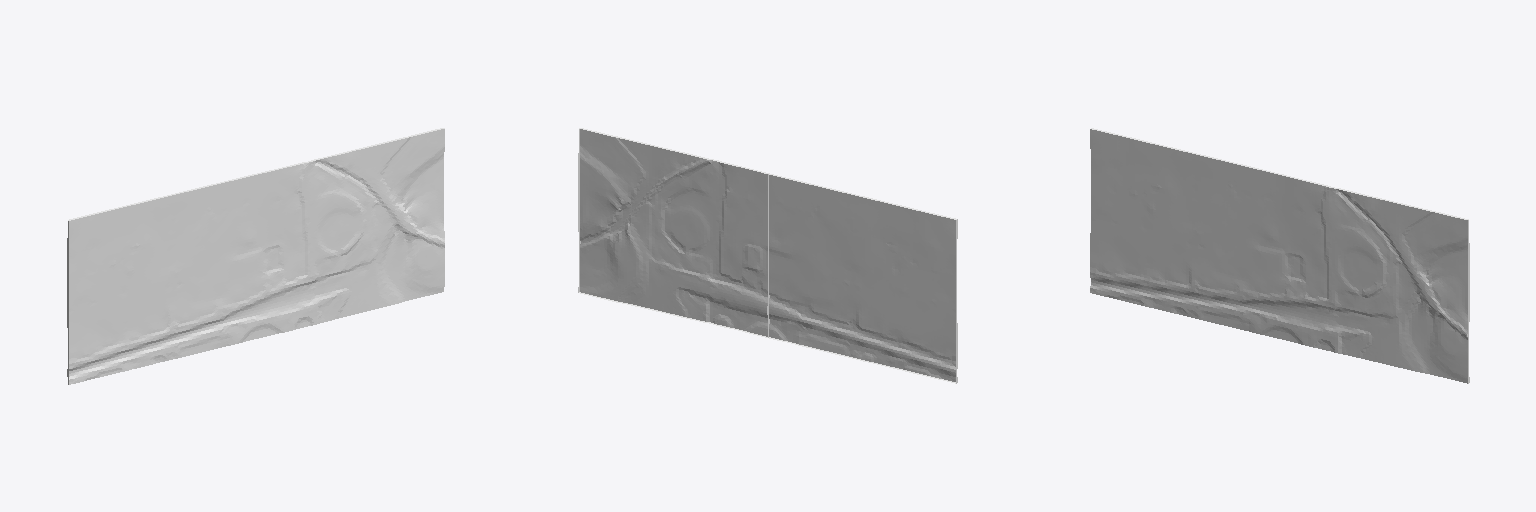
Rendered from novo2.obj.
3 views of the same model, side by side, from view 1: azimuth 30°, elevation 25°; view 2: azimuth 150°, elevation 25°; view 3: azimuth 330°, elevation 25° (orthographic).
Visible parts, largest first — view 1: novo2_L0_X0_Y0_subtile.osg_TerrainTile_MatrixTransform__Geometry; view 2: novo2_L0_X0_Y0_subtile.osg_TerrainTile_MatrixTransform__Geometry; view 3: novo2_L0_X0_Y0_subtile.osg_TerrainTile_MatrixTransform__Geometry.
Part boxes in pixels (x1,y1,x2,y2): novo2_L0_X0_Y0_subtile.osg_TerrainTile_MatrixTransform__Geometry: (67,128,444,384); novo2_L0_X0_Y0_subtile.osg_TerrainTile_MatrixTransform__Geometry: (578,128,957,383); novo2_L0_X0_Y0_subtile.osg_TerrainTile_MatrixTransform__Geometry: (1090,128,1469,383).
Size of the model in its own units: 1341 by 558 by 19.47.